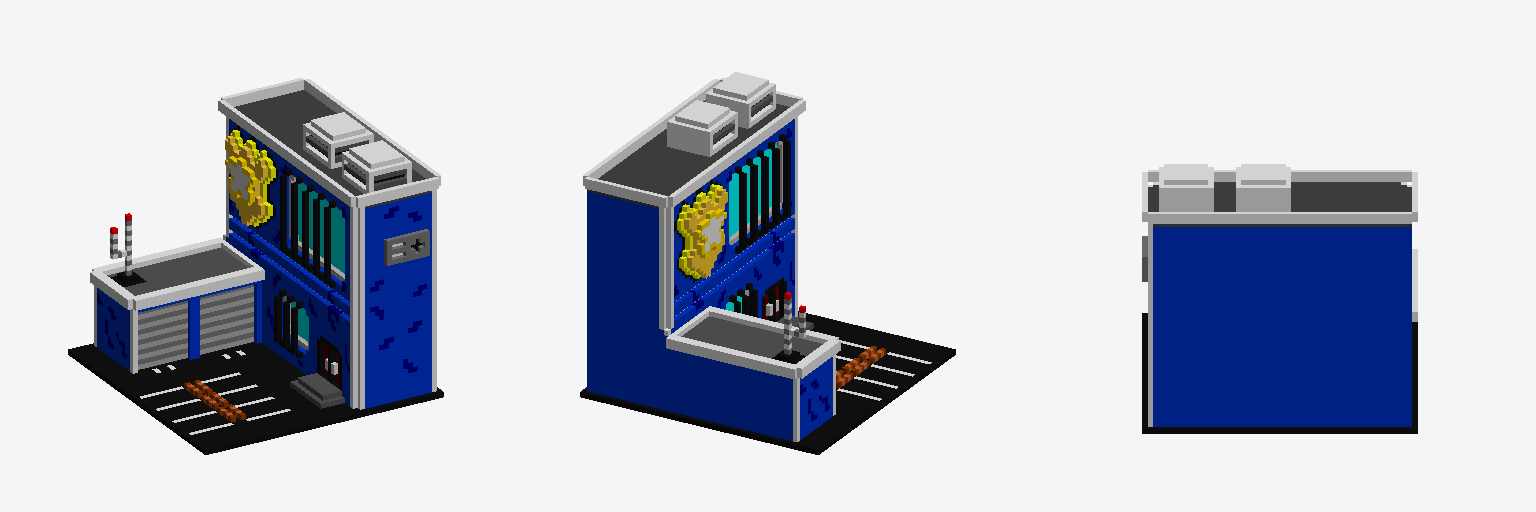
3 renders of one model, left to right at view 1: azimuth 30°, elevation 25°; view 2: azimuth 150°, elevation 25°; view 3: azimuth 270°, elevation 25°, orthographic.
Parts seen in each view (by area): view 1: object 1; view 2: object 1; view 3: object 1.
Boxes of the visible parts, box(x1,y1,x2,y2) form: object 1: box(68, 78, 443, 454); object 1: box(580, 72, 955, 454); object 1: box(1142, 164, 1417, 433).
Bounding box in the file's own units: 5 × 4.8 × 5.
1 materials, 1 textured.